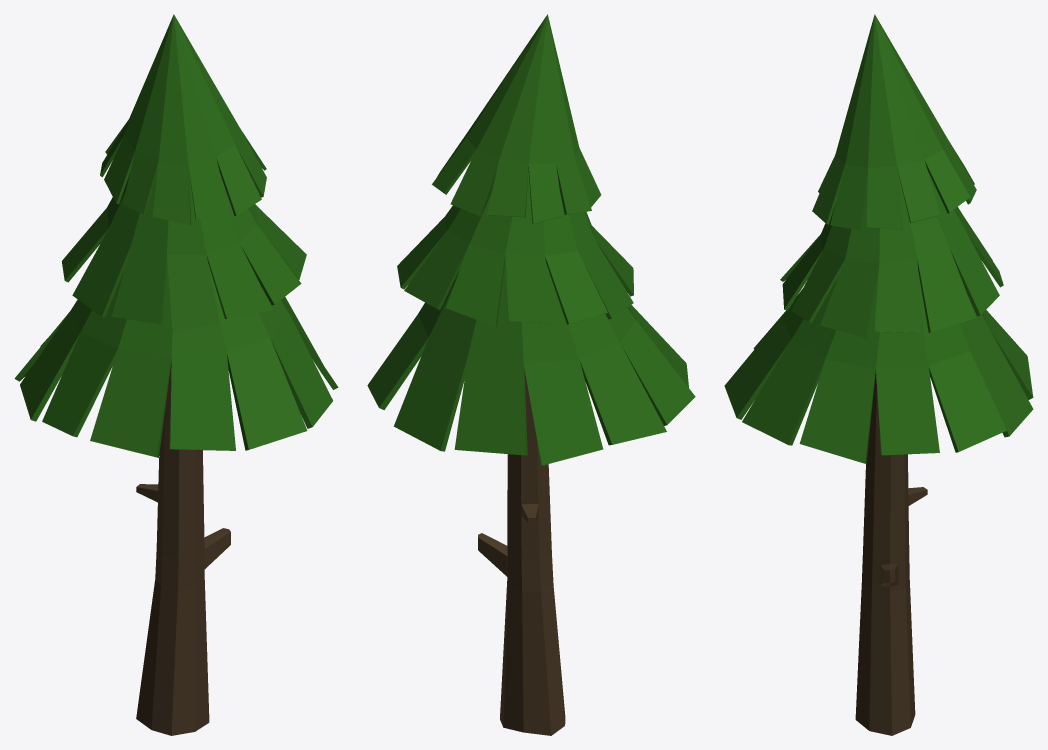
File: Forest 02 Pine_Tree_02.fbx
3 views of the same model, side by side, from view 1: azimuth 30°, elevation 25°; view 2: azimuth 150°, elevation 25°; view 3: azimuth 270°, elevation 25° (orthographic).
Parts seen in each view (by area): view 1: Tree3; view 2: Tree3; view 3: Tree3.
Part boxes in pixels (x1=…): Tree3: x1=14, y1=14, x2=338, y2=735; Tree3: x1=367, y1=14, x2=695, y2=735; Tree3: x1=724, y1=14, x2=1033, y2=735.
Size of the model in its own units: 6.84 by 16.8 by 6.69.
